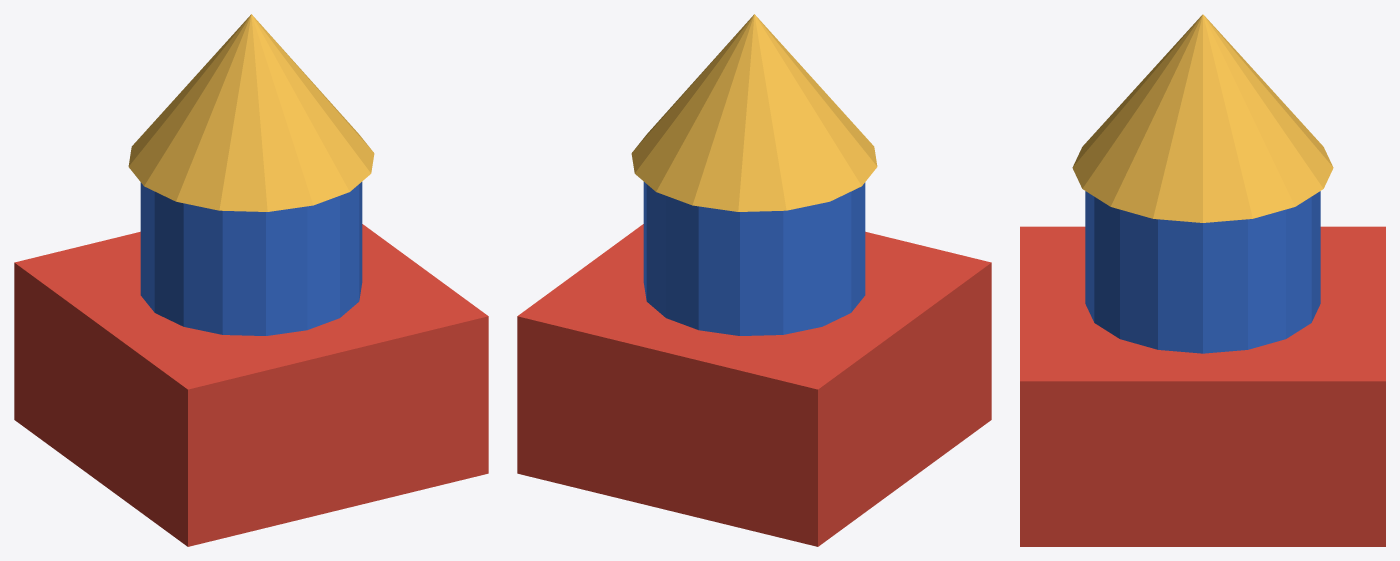
The model's file is curved_mesh_fixture.glb.
The picture shows the model from 3 angles, left to right: view 1: azimuth 30°, elevation 25°; view 2: azimuth 150°, elevation 25°; view 3: azimuth 270°, elevation 25°; orthographic projection. The views are drawn at different scales.
Visible parts, largest first — view 1: base, cap, body; view 2: base, cap, body; view 3: base, cap, body.
Part boxes in pixels (left/top/right/bottom): base: left=14, top=224, right=488, bottom=546; cap: left=128, top=14, right=374, bottom=211; body: left=140, top=182, right=362, bottom=335; base: left=517, top=224, right=991, bottom=546; cap: left=631, top=14, right=877, bottom=211; body: left=643, top=182, right=865, bottom=335; base: left=1020, top=226, right=1385, bottom=546; cap: left=1072, top=14, right=1333, bottom=222; body: left=1085, top=191, right=1320, bottom=353.
Bounding box in the file's own units: 1.4 × 1.92 × 1.4.
